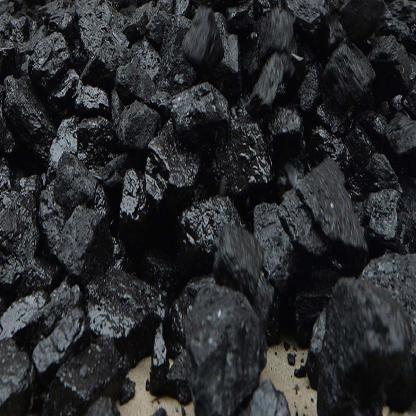Sedimentary_coal: (302, 247, 416, 415), (154, 272, 263, 407), (36, 120, 107, 278), (178, 189, 258, 292), (167, 75, 233, 161), (68, 6, 128, 74)
